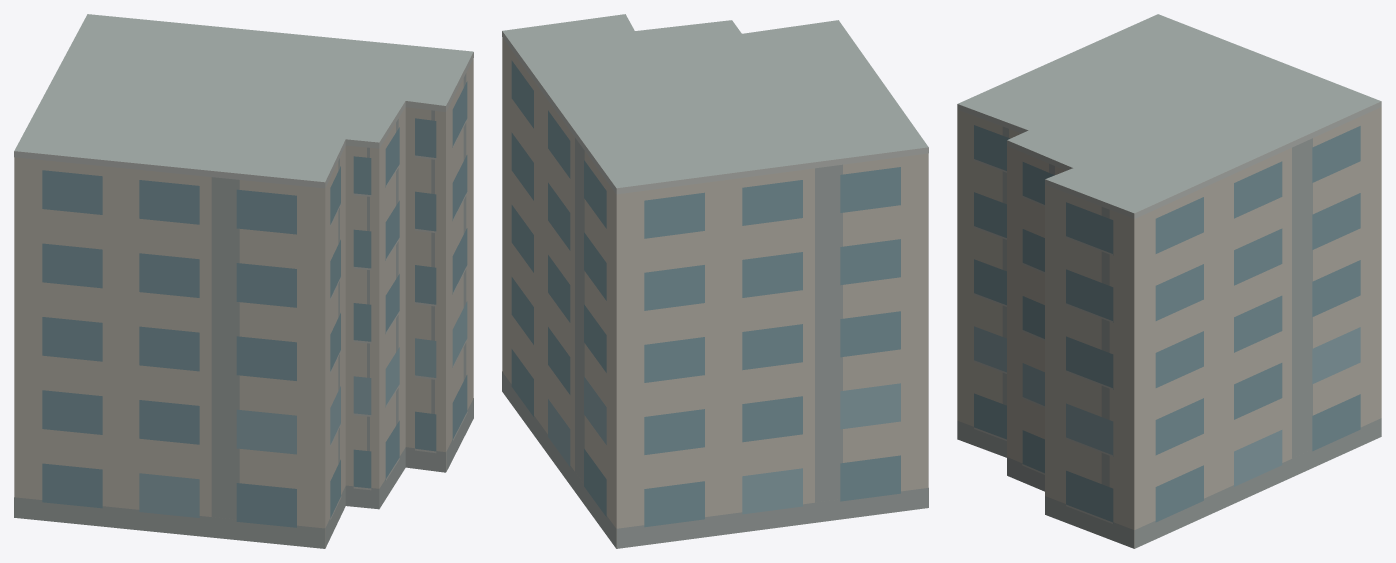
File: survey-upis-32994299.glb
The picture shows the model from 3 angles, left to right: view 1: azimuth 30°, elevation 25°; view 2: azimuth 150°, elevation 25°; view 3: azimuth 270°, elevation 25°; orthographic projection. The views are drawn at different scales.
Parts seen in each view (by area): view 1: survey-upis-32994299.tmp; view 2: survey-upis-32994299.tmp; view 3: survey-upis-32994299.tmp.
Part boxes in pixels (<box>): survey-upis-32994299.tmp: <box>14,14,473,548</box>; survey-upis-32994299.tmp: <box>502,14,928,548</box>; survey-upis-32994299.tmp: <box>957,14,1381,548</box>.
Size of the model in its own units: 18.37 by 14.4 by 16.51.
